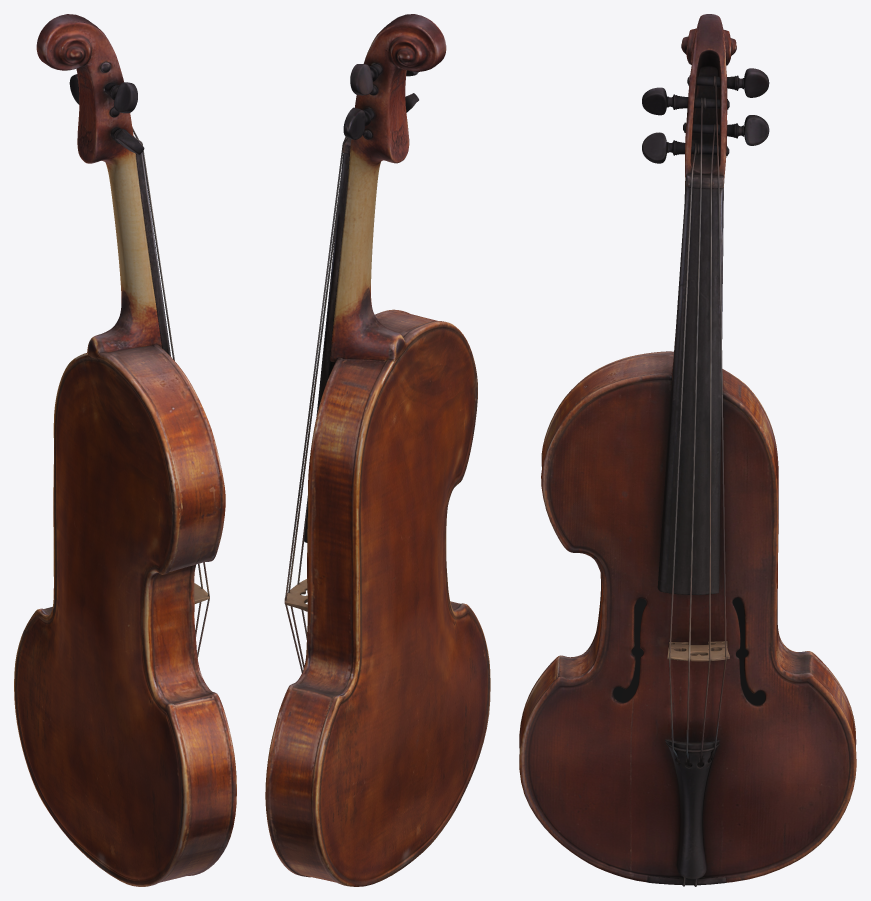
File: polish_violin.fbx
3 renders of one model, left to right at view 1: azimuth 30°, elevation 25°; view 2: azimuth 150°, elevation 25°; view 3: azimuth 270°, elevation 25°, orthographic. The views are drawn at different scales.
Parts seen in each view (by area): view 1: node_9863dd7c_accf_404d_9ae5_f523ce957b40_mesh0, node_c354dfad_a382_4ba3_90dd_a194b2df852b_mesh0, node_4ddf6400_4e49_4e04_96d6_bf62c951f8d1_mesh0, node_ec7476ad_397c_4281_964d_db741fcb58c0_mesh0, node_c270cfdf_7e0b_42e1_9ae5_32ad5f856782_mesh0; view 2: node_9863dd7c_accf_404d_9ae5_f523ce957b40_mesh0, node_c354dfad_a382_4ba3_90dd_a194b2df852b_mesh0, node_c270cfdf_7e0b_42e1_9ae5_32ad5f856782_mesh0, node_4ddf6400_4e49_4e04_96d6_bf62c951f8d1_mesh0, node_ec7476ad_397c_4281_964d_db741fcb58c0_mesh0, node_09a9743c_d2d3_49d2_8724_5e4e99378882_mesh0; view 3: node_9863dd7c_accf_404d_9ae5_f523ce957b40_mesh0, node_4ddf6400_4e49_4e04_96d6_bf62c951f8d1_mesh0, node_c270cfdf_7e0b_42e1_9ae5_32ad5f856782_mesh0, node_c354dfad_a382_4ba3_90dd_a194b2df852b_mesh0, node_5da6361f_79e0_4a7c_808e_32653bd1a3be_mesh0, node_ec7476ad_397c_4281_964d_db741fcb58c0_mesh0, node_c0424cbb_4844_4162_a0b5_f6ff9d396a50_mesh0, node_09a9743c_d2d3_49d2_8724_5e4e99378882_mesh0.
Boxes of the visible parts, x1=… form: node_9863dd7c_accf_404d_9ae5_f523ce957b40_mesh0: x1=14, y1=344, x2=236, y2=886; node_c354dfad_a382_4ba3_90dd_a194b2df852b_mesh0: x1=36, y1=14, x2=161, y2=359; node_4ddf6400_4e49_4e04_96d6_bf62c951f8d1_mesh0: x1=136, y1=152, x2=170, y2=356; node_ec7476ad_397c_4281_964d_db741fcb58c0_mesh0: x1=69, y1=62, x2=144, y2=154; node_c270cfdf_7e0b_42e1_9ae5_32ad5f856782_mesh0: x1=132, y1=127, x2=209, y2=658; node_9863dd7c_accf_404d_9ae5_f523ce957b40_mesh0: x1=265, y1=309, x2=490, y2=886; node_c354dfad_a382_4ba3_90dd_a194b2df852b_mesh0: x1=330, y1=14, x2=446, y2=361; node_c270cfdf_7e0b_42e1_9ae5_32ad5f856782_mesh0: x1=285, y1=137, x2=347, y2=672; node_4ddf6400_4e49_4e04_96d6_bf62c951f8d1_mesh0: x1=304, y1=152, x2=349, y2=542; node_ec7476ad_397c_4281_964d_db741fcb58c0_mesh0: x1=343, y1=63, x2=418, y2=139; node_09a9743c_d2d3_49d2_8724_5e4e99378882_mesh0: x1=284, y1=579, x2=307, y2=611; node_9863dd7c_accf_404d_9ae5_f523ce957b40_mesh0: x1=519, y1=351, x2=856, y2=882; node_4ddf6400_4e49_4e04_96d6_bf62c951f8d1_mesh0: x1=657, y1=186, x2=723, y2=594; node_c270cfdf_7e0b_42e1_9ae5_32ad5f856782_mesh0: x1=669, y1=76, x2=726, y2=886; node_c354dfad_a382_4ba3_90dd_a194b2df852b_mesh0: x1=671, y1=14, x2=736, y2=390; node_5da6361f_79e0_4a7c_808e_32653bd1a3be_mesh0: x1=647, y1=739, x2=726, y2=885; node_ec7476ad_397c_4281_964d_db741fcb58c0_mesh0: x1=642, y1=68, x2=769, y2=163; node_c0424cbb_4844_4162_a0b5_f6ff9d396a50_mesh0: x1=613, y1=597, x2=765, y2=705; node_09a9743c_d2d3_49d2_8724_5e4e99378882_mesh0: x1=667, y1=641, x2=729, y2=661.
Size of the model in its own units: 10447 by 55992 by 20342.
Materials: 7 (6 with a texture image).
